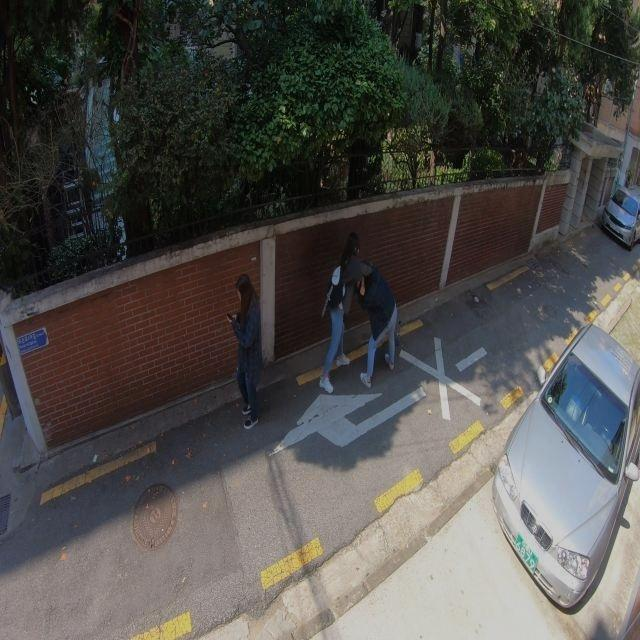fight: (317, 233, 402, 394)
non-fight: (224, 274, 265, 430)
